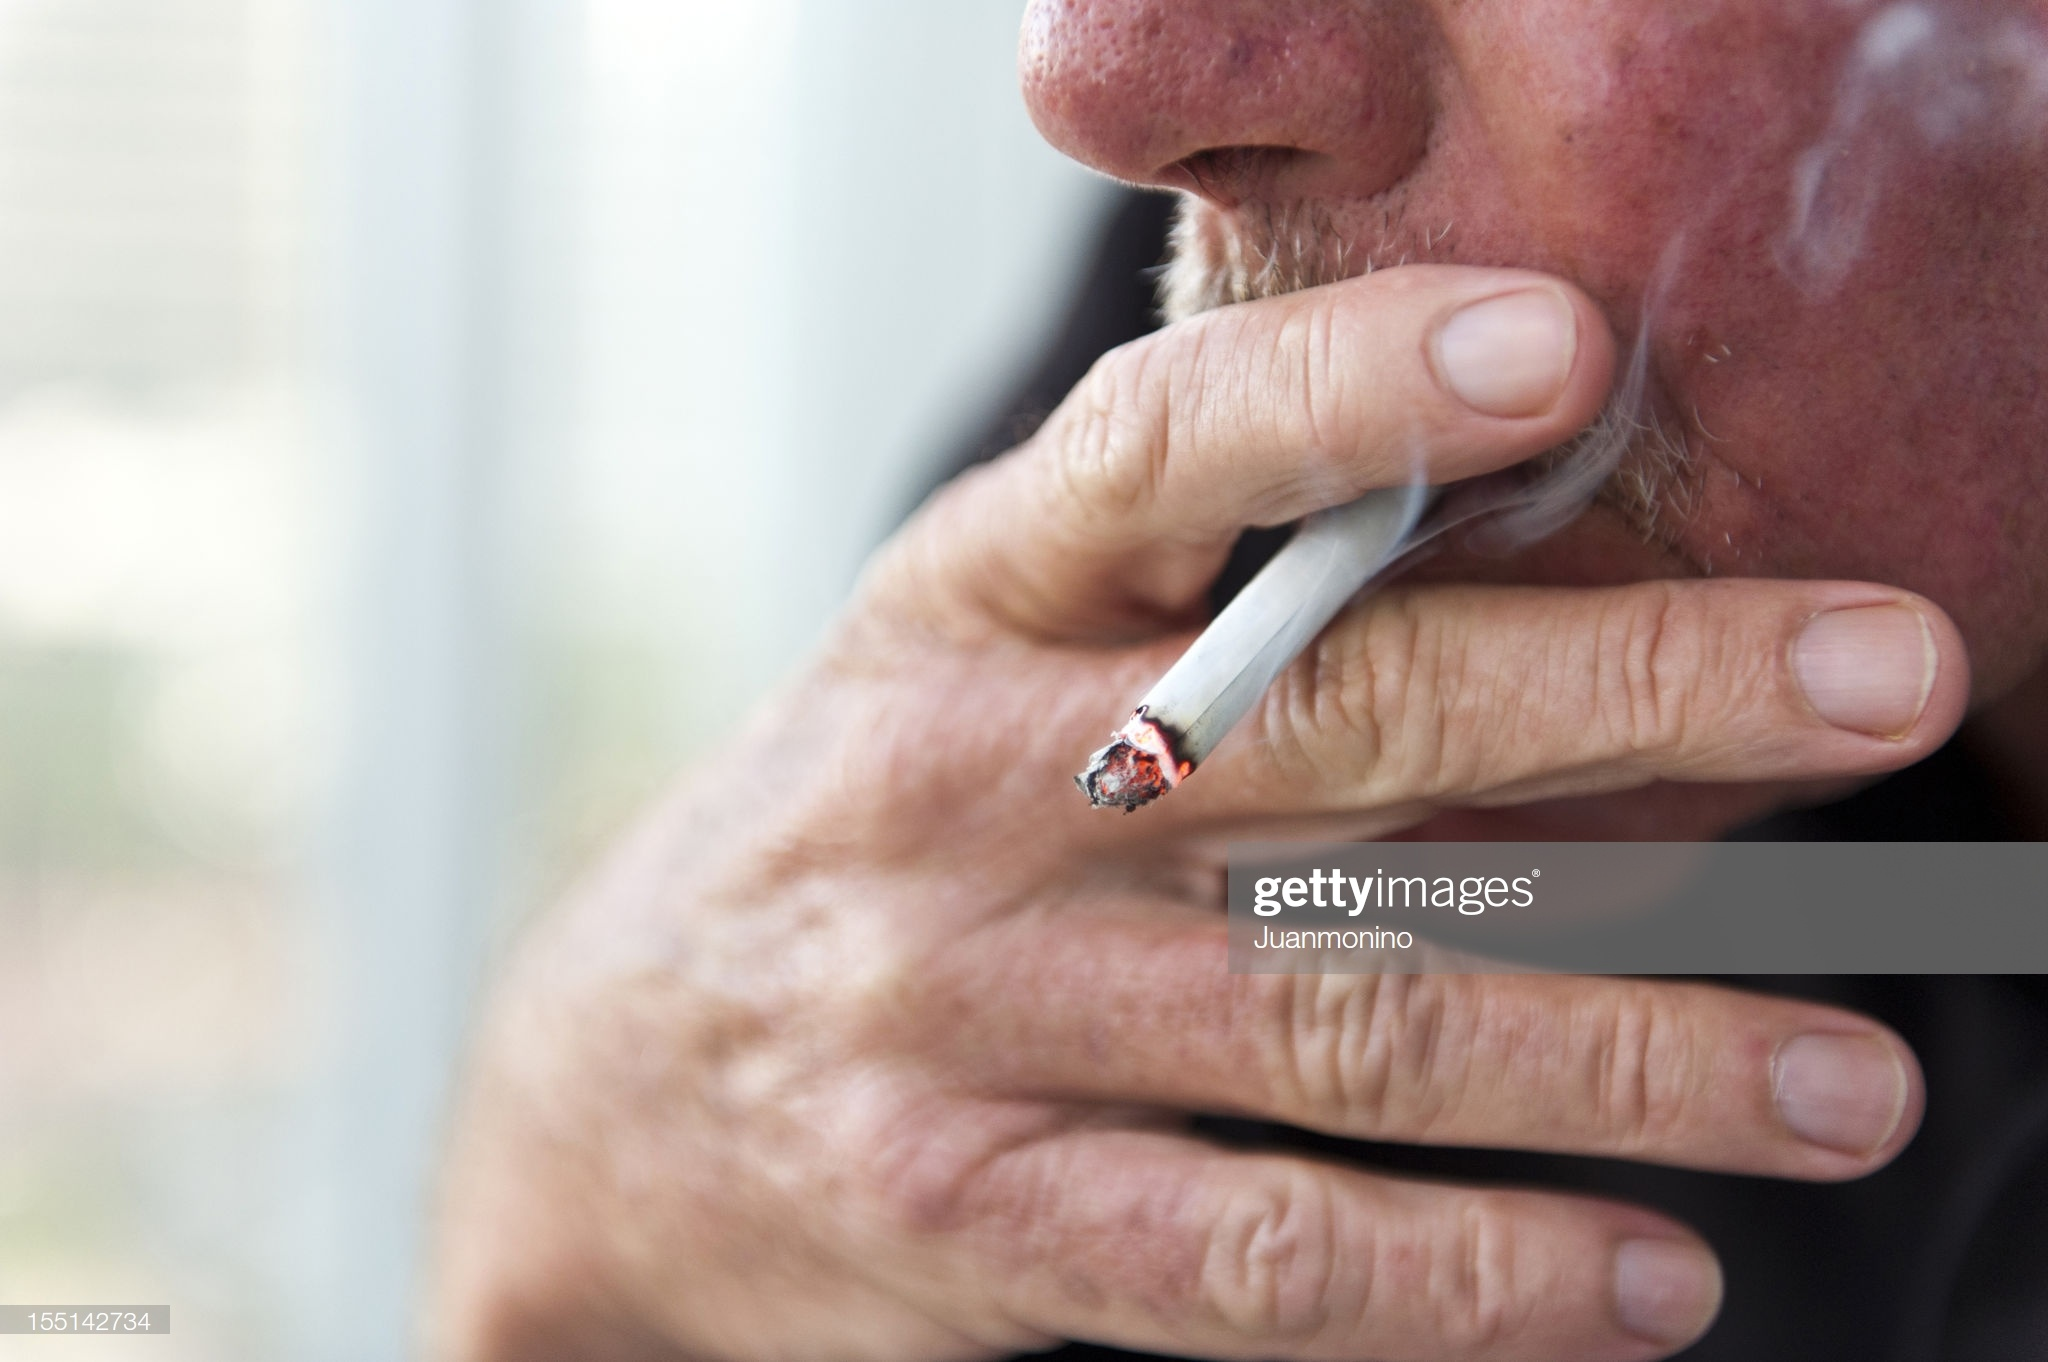sigaretta: (1079, 427, 1442, 807)
